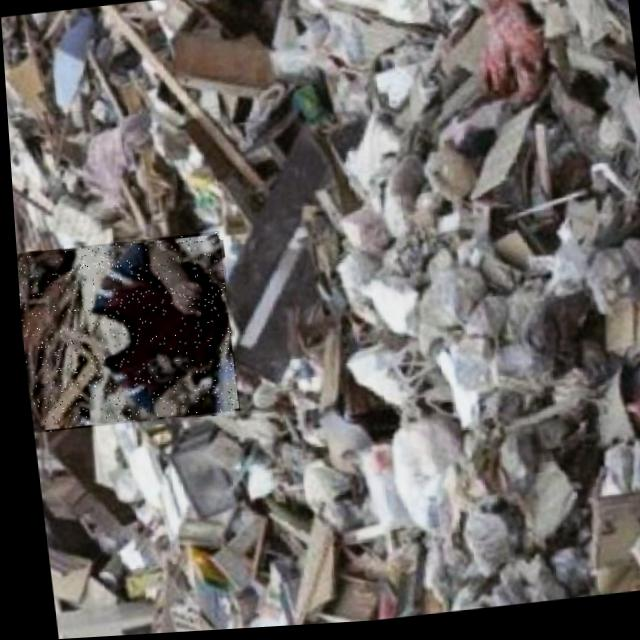Person in Rubble: (13, 232, 235, 433)
